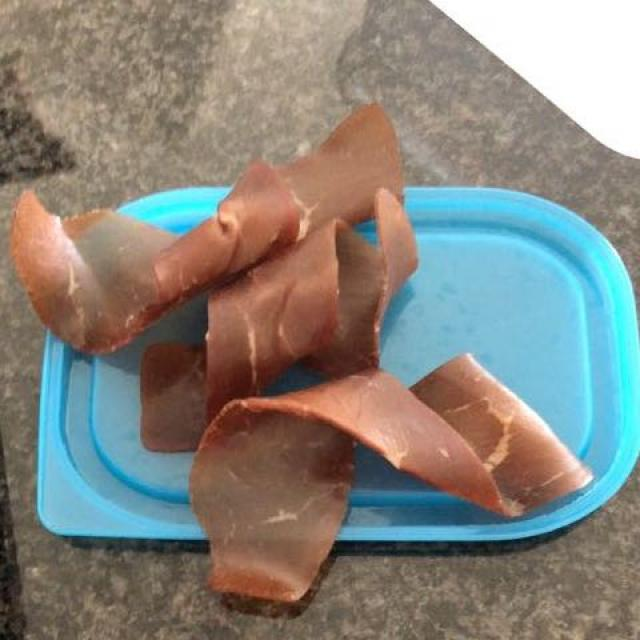dried-meat: (25, 114, 586, 575)
